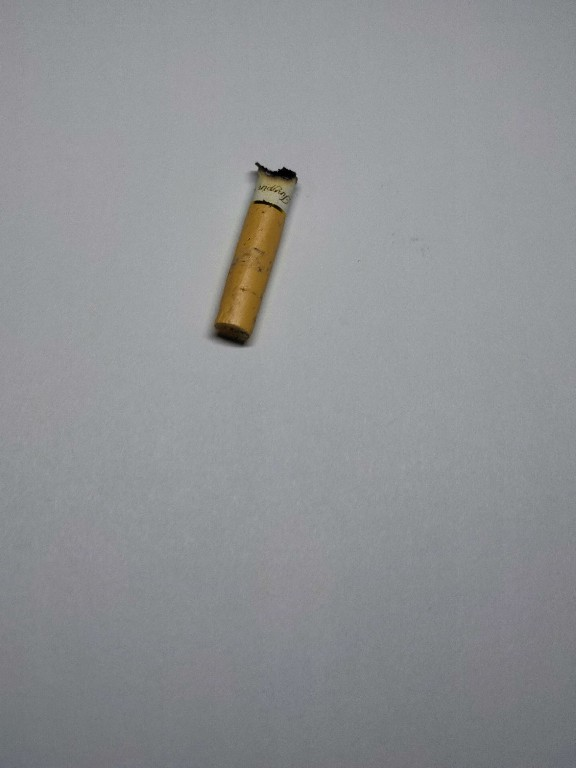cigarette: (211, 157, 302, 347)
